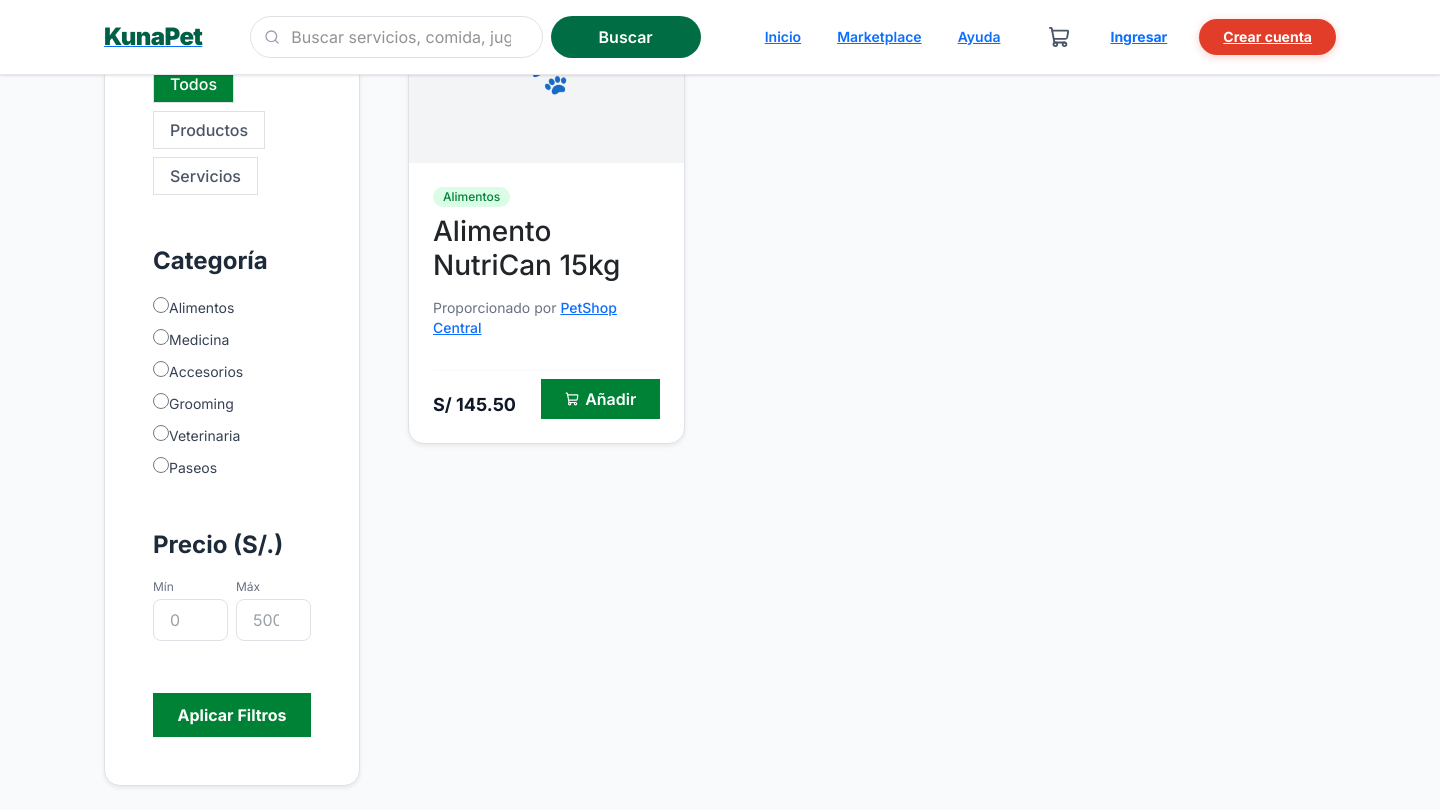
Test: Marketplace conectado a la API › no aplica un rango de precio inválido
(page scrolled)
Expected: the heading "Alimento NutriCan 15kg" is shown, [433, 214, 620, 282]
In the number field labelled "Mín": (190, 620) [153, 599, 228, 641], type "50"
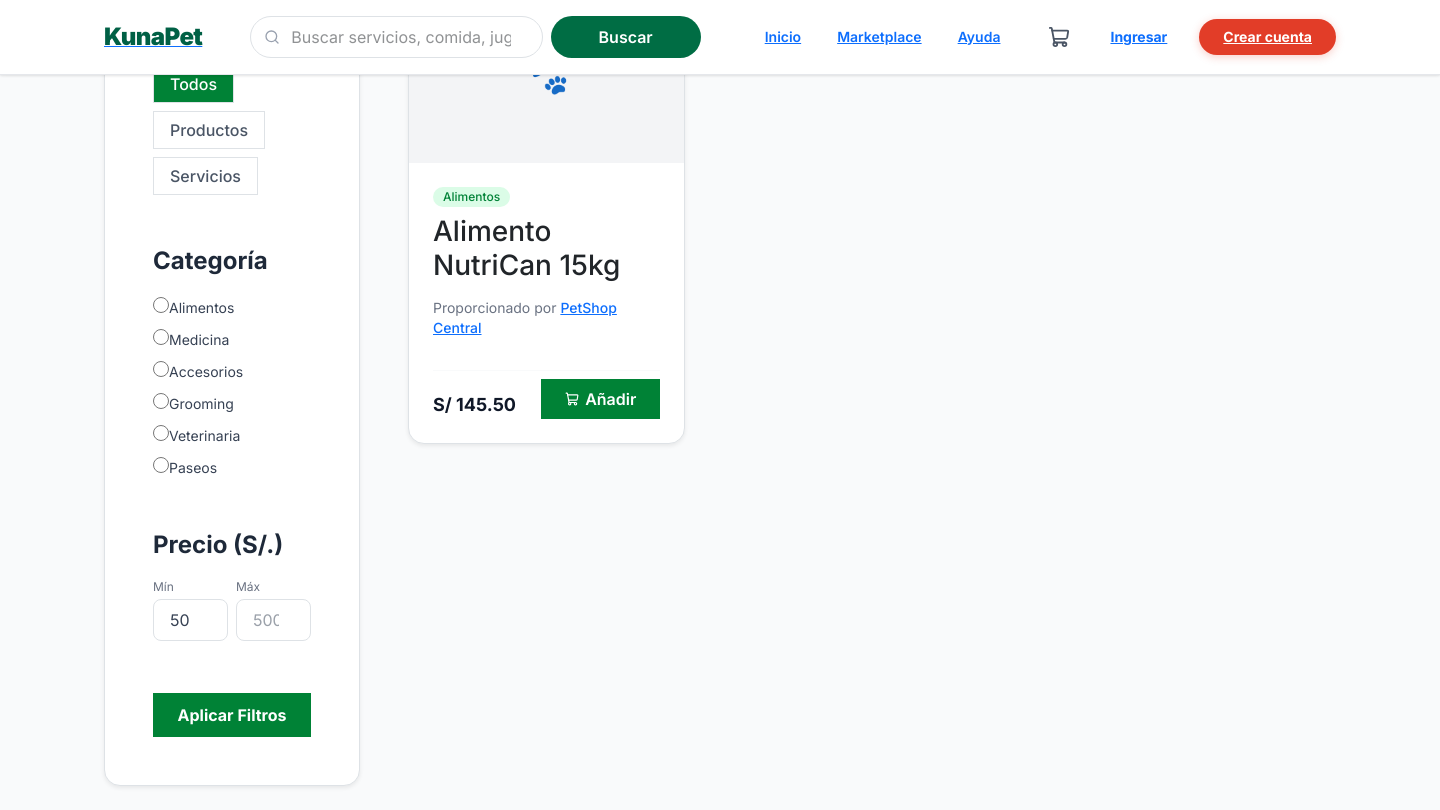
In the number field labelled "Máx": (274, 620) [236, 599, 311, 641], type "10"
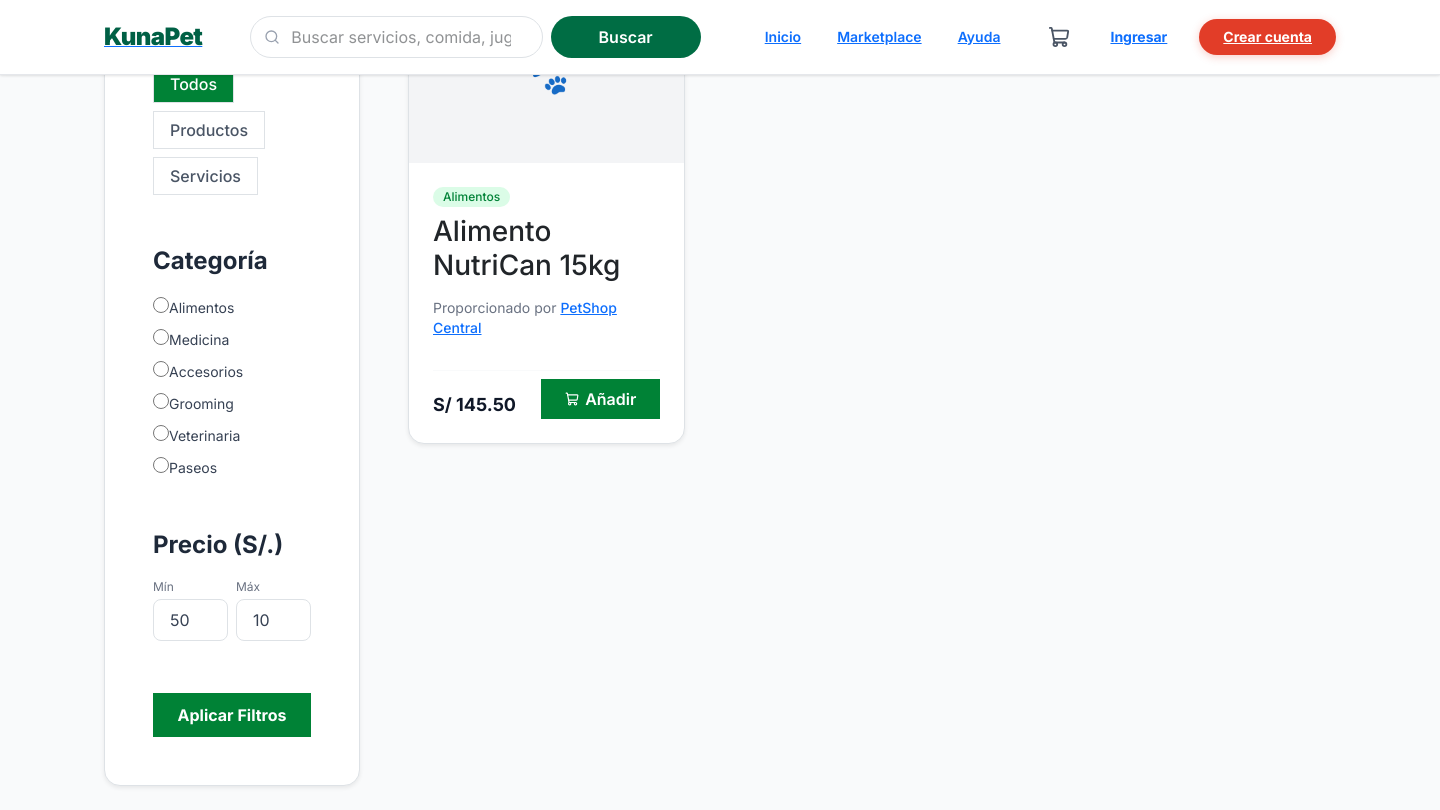
Click the button "Aplicar Filtros": (232, 715) [153, 693, 311, 737]
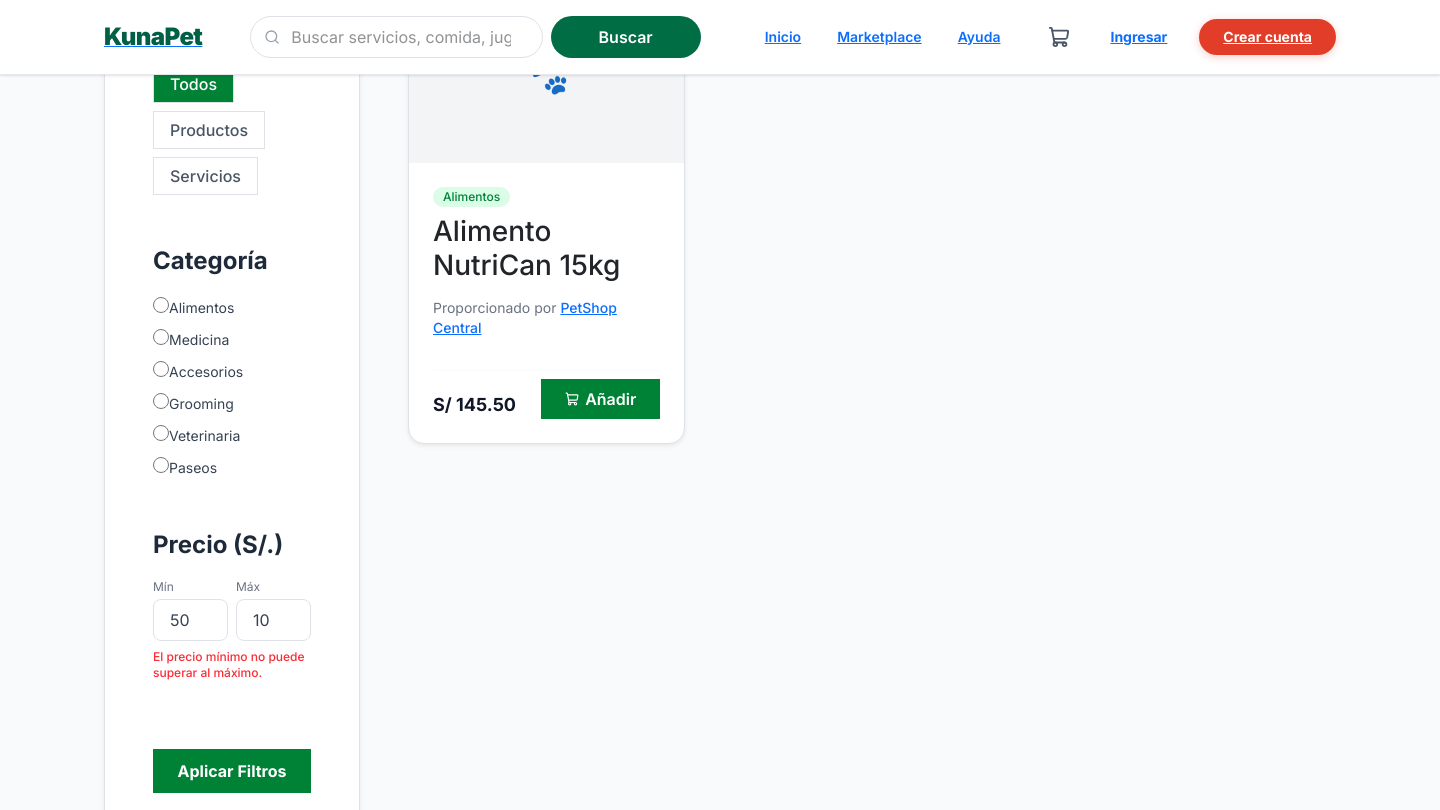
Expected: the text "El precio mínimo no puede superar al máximo." is shown, [153, 649, 311, 681]
